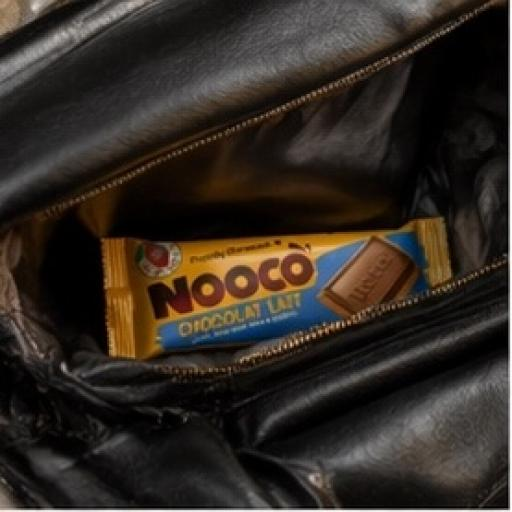biscuit-detection: (74, 186, 482, 364)
